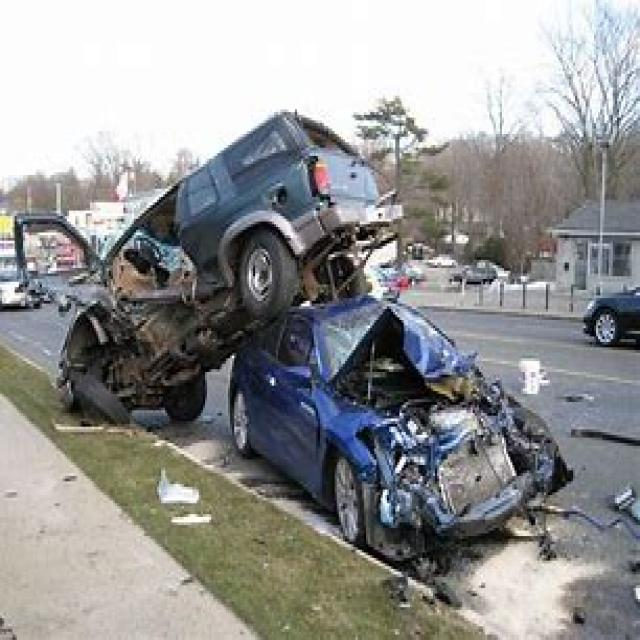Accident: (56, 75, 556, 577)
